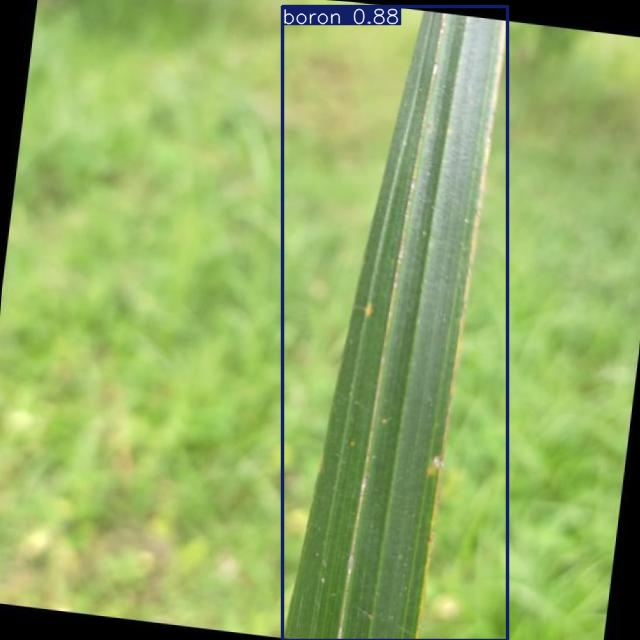nitrogen: (282, 7, 508, 640)
